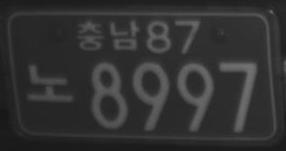7: (217, 59, 259, 133), (172, 18, 202, 55)
8: (144, 18, 172, 54)
9: (175, 59, 216, 133), (130, 59, 172, 131)
노: (23, 62, 74, 103)
충남_O: (88, 60, 130, 131), (74, 17, 141, 52)
